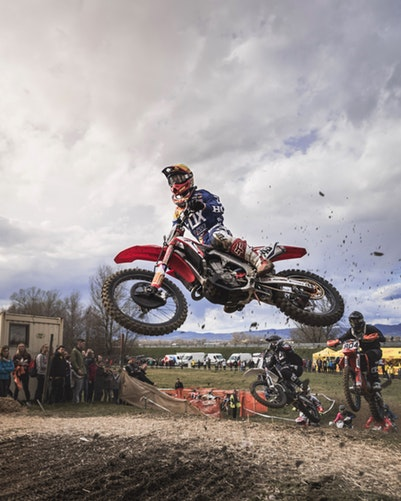helmet: (161, 164, 192, 193)
